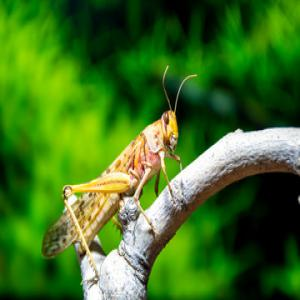locust: (45, 69, 204, 289)
